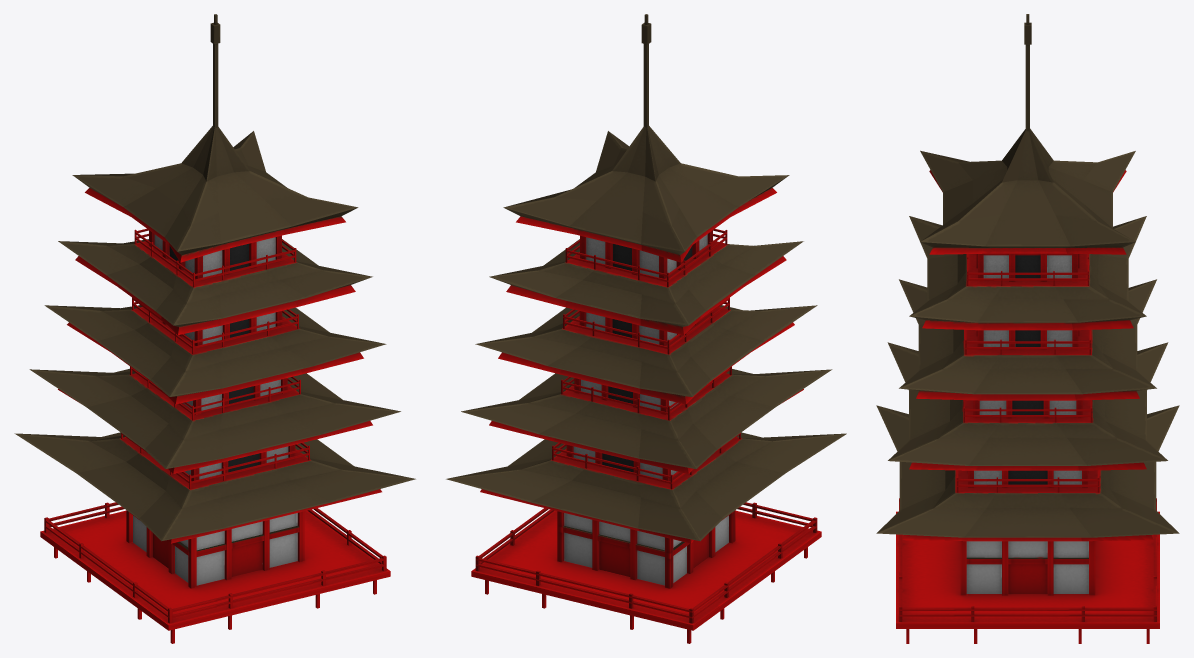
The model's file is Pagoda.gltf.
The picture shows the model from 3 angles, left to right: view 1: azimuth 30°, elevation 25°; view 2: azimuth 150°, elevation 25°; view 3: azimuth 270°, elevation 25°; orthographic projection. The views are drawn at different scales.
Parts seen in each view (by area): view 1: Pagoda_mesh; view 2: Pagoda_mesh; view 3: Pagoda_mesh.
Boxes of the visible parts, x1=… form: Pagoda_mesh: x1=14, y1=14, x2=415, y2=643; Pagoda_mesh: x1=446, y1=14, x2=846, y2=643; Pagoda_mesh: x1=876, y1=14, x2=1179, y2=643.
Bounding box in the file's own units: 26.41 × 55.5 × 26.41.
1 material, 1 textured.
